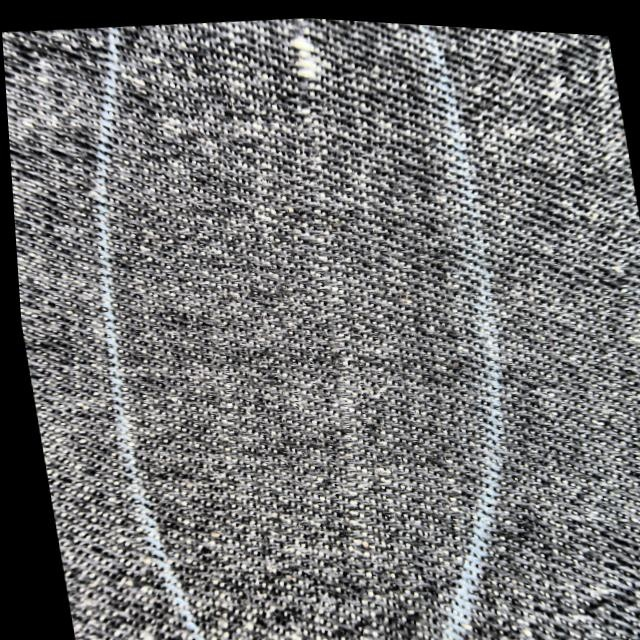Hole: (252, 7, 433, 640), (278, 5, 391, 640), (279, 22, 326, 82)
